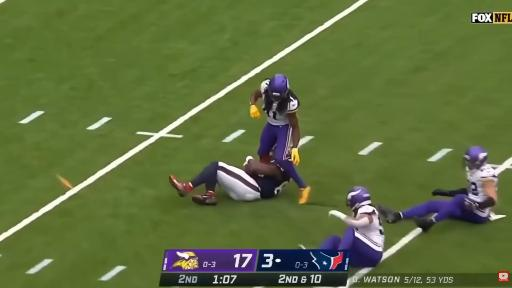Helmet: (346, 186, 371, 211), (268, 75, 289, 101), (464, 147, 487, 169)
Jersey: (260, 79, 299, 125), (355, 205, 384, 251), (254, 162, 289, 198), (467, 164, 497, 202)
Player: (379, 147, 497, 231), (250, 75, 310, 203), (170, 157, 289, 205), (319, 187, 384, 267)
